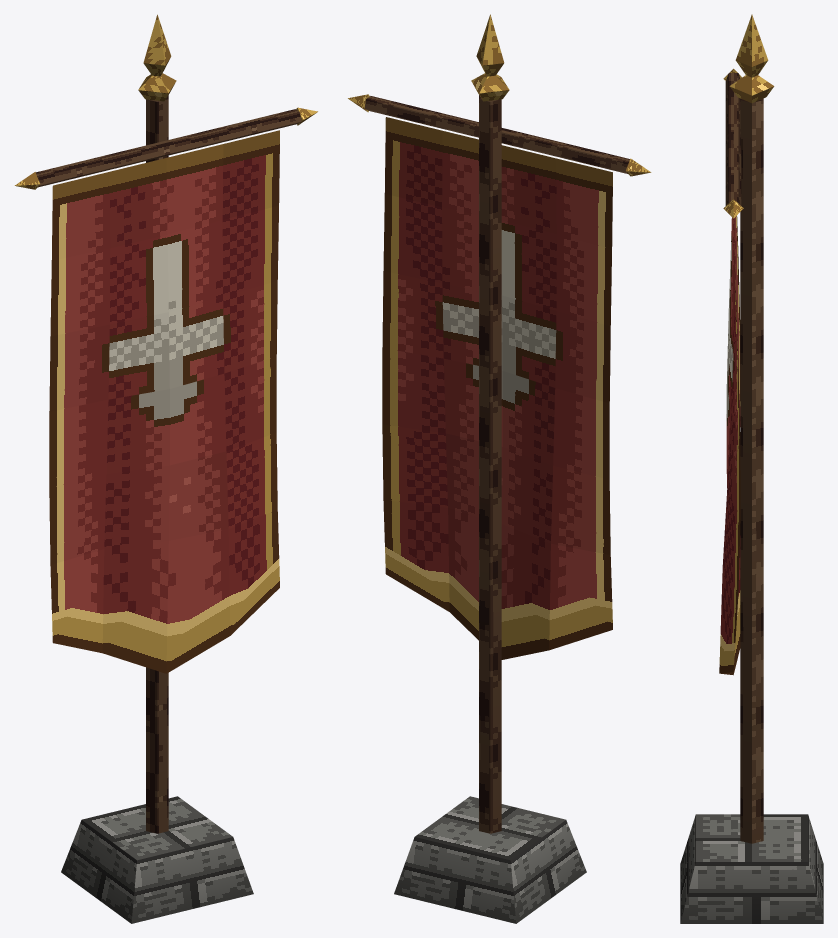
Rendered from banner_red.glb.
3 views of the same model, side by side, from view 1: azimuth 30°, elevation 25°; view 2: azimuth 150°, elevation 25°; view 3: azimuth 270°, elevation 25° (orthographic).
Visible parts, largest first — view 1: cloth, banner_red; view 2: cloth, banner_red; view 3: banner_red, cloth.
Boxes of the visible parts, x1=… form: cloth: x1=49, y1=130, x2=279, y2=673; banner_red: x1=14, y1=14, x2=317, y2=923; cloth: x1=382, y1=117, x2=612, y2=659; banner_red: x1=348, y1=14, x2=651, y2=923; banner_red: x1=680, y1=14, x2=823, y2=923; cloth: x1=719, y1=216, x2=740, y2=675.
Bounding box in the file's own units: 1.74 × 4.75 × 0.7.
4 materials, 4 textured.
